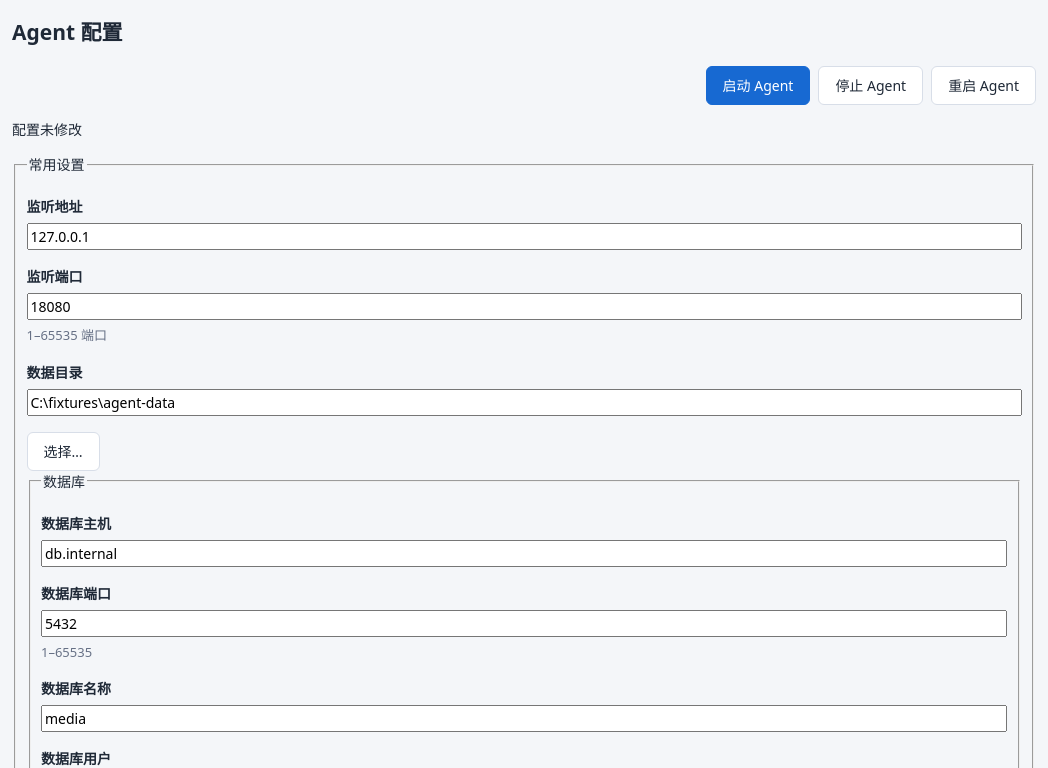
Test: AgentPage › 重复启动 Agent 显示已运行状态而不是操作失败
This screenshot has width=1048, height=768.
Expected: the field showing "127.0.0.1" is shown, [26, 223, 1022, 250]
What coordinates should you click on to do the following:
click the button "启动 Agent"
I would click on:
 (758, 86)
Its box is [706, 66, 810, 105].
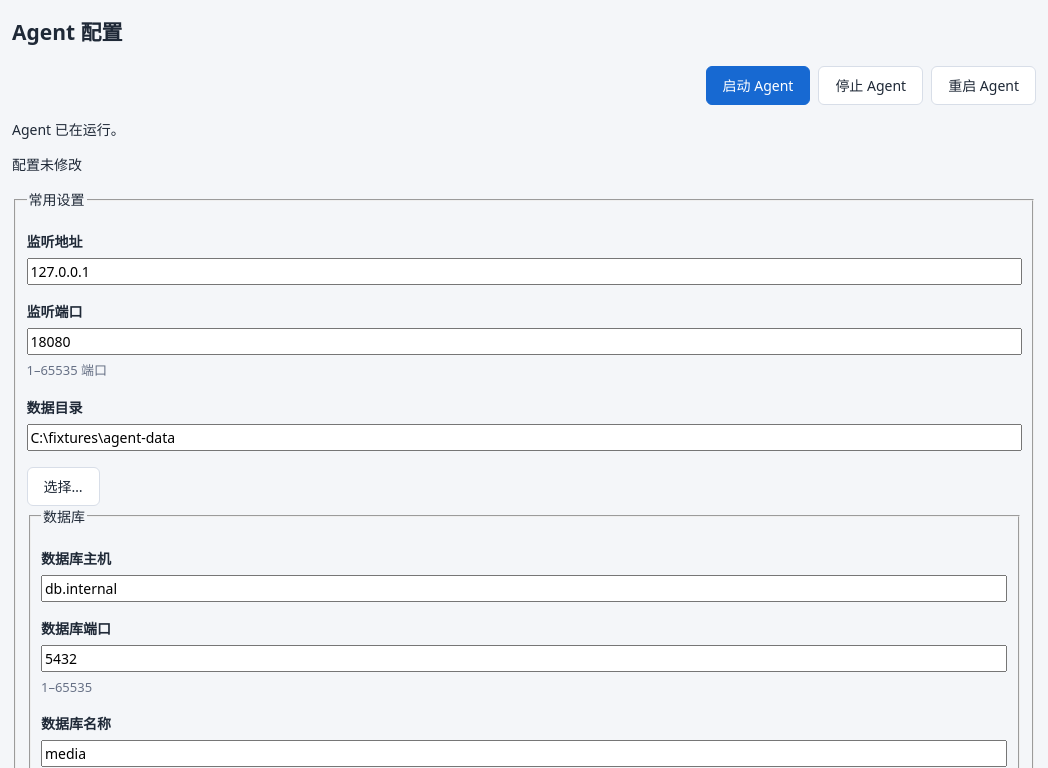
Result: the message reads "Agent 已在运行。" at [12, 120, 125, 139]
